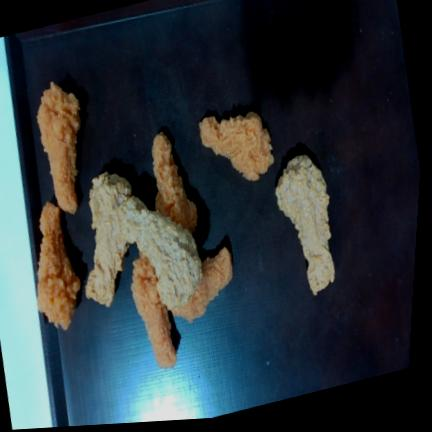chicken: (121, 196, 202, 310), (276, 155, 334, 294), (86, 172, 132, 306), (37, 82, 81, 213), (37, 202, 80, 329), (131, 256, 177, 368), (199, 111, 274, 179), (152, 132, 197, 232), (172, 247, 232, 322)
